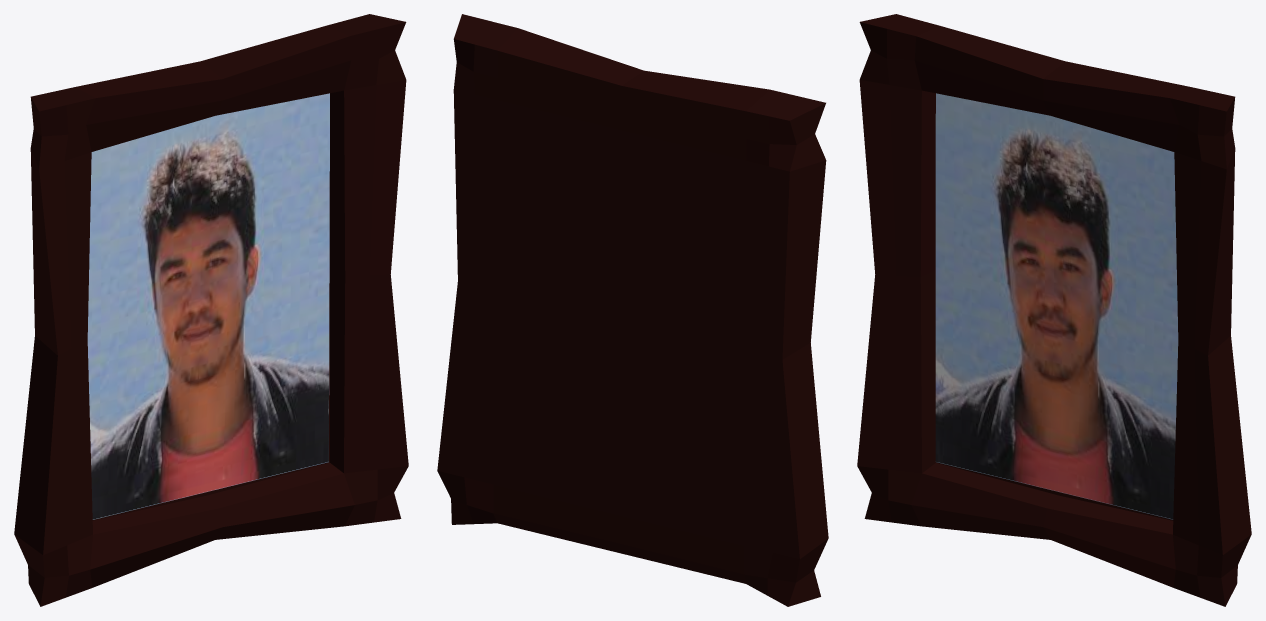
File: V_Medieval05_Moldura.fbx
3 renders of one model, left to right at view 1: azimuth 30°, elevation 25°; view 2: azimuth 150°, elevation 25°; view 3: azimuth 330°, elevation 25°, orthographic.
Parts seen in each view (by area): view 1: Moldura, Imagem; view 2: Moldura; view 3: Moldura, Imagem.
Boxes of the visible parts, x1,y1,x2,y2 form: Moldura: (14,14,408,606); Imagem: (87,93,329,519); Moldura: (437,14,828,606); Moldura: (857,14,1251,606); Imagem: (935,93,1178,519).
Size of the model in its own units: 256 by 331 by 36.76.
